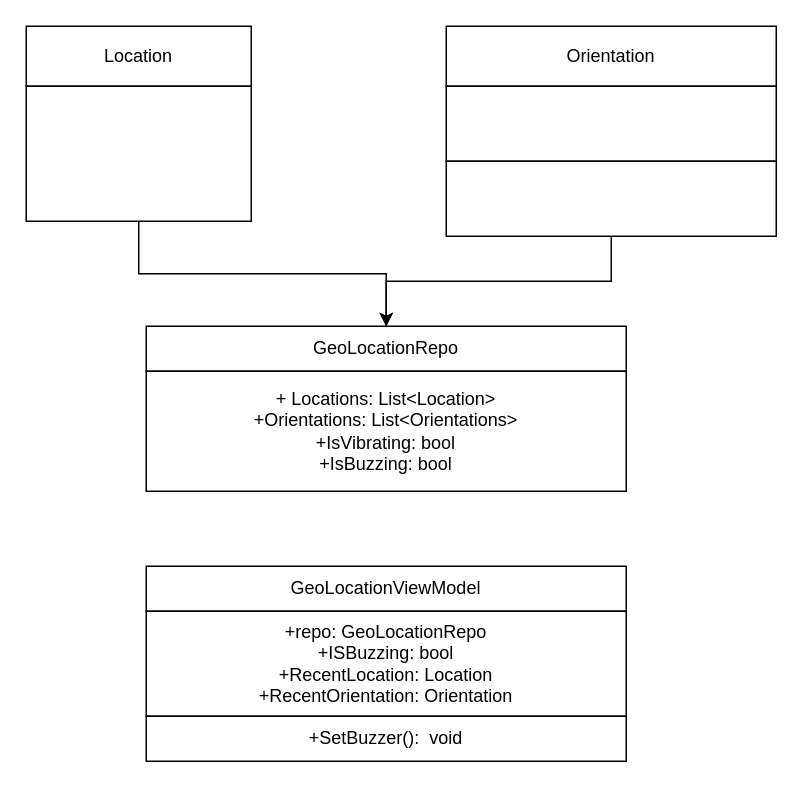
The diagram is 803 pixels wide and 788 high, and some of its shapes have lost their labels. The centre of each missing label's shape, as x and y in pixels:
"+ Altitude: float + Longitude: float + Latitude: float +TimeRead: DateTime" goes at (138,153).
"+ Pitch: float + Roll: float +TimeRead: DateTime" goes at (610,123).
"- GetOrientationDifference(): Orientation + IsVibrating: bool" goes at (610,198).
